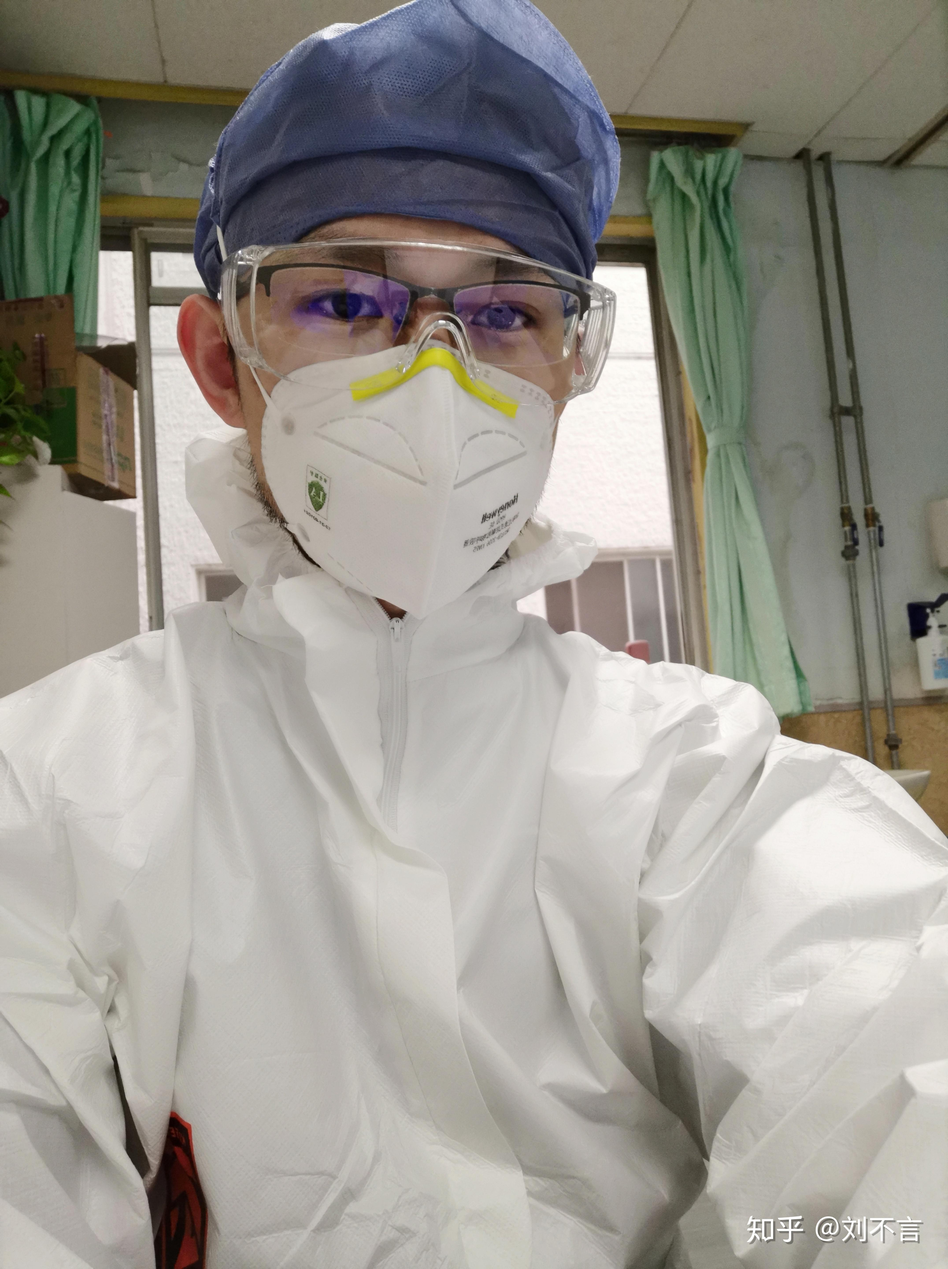with_mask: (176, 3, 622, 623)
